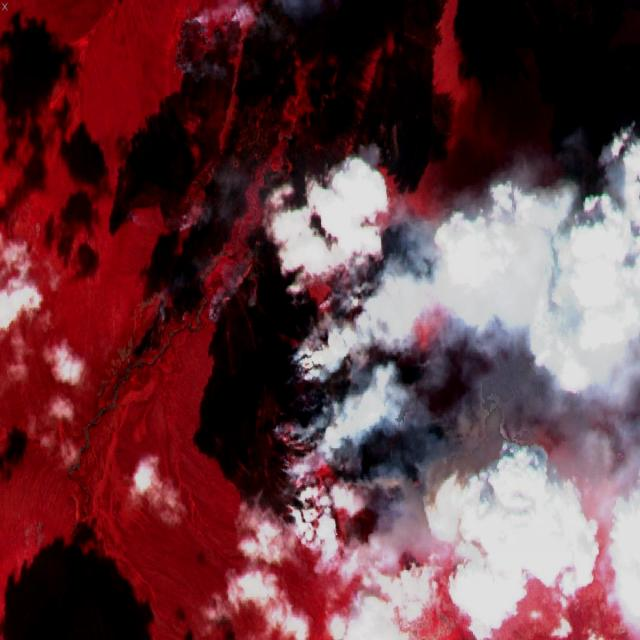fire: (280, 207, 488, 560), (166, 8, 251, 78)
